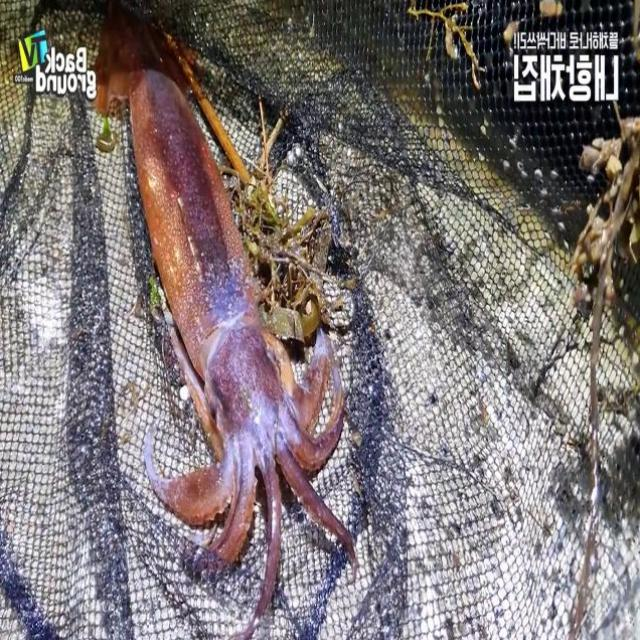SQUID: (74, 16, 388, 637)
